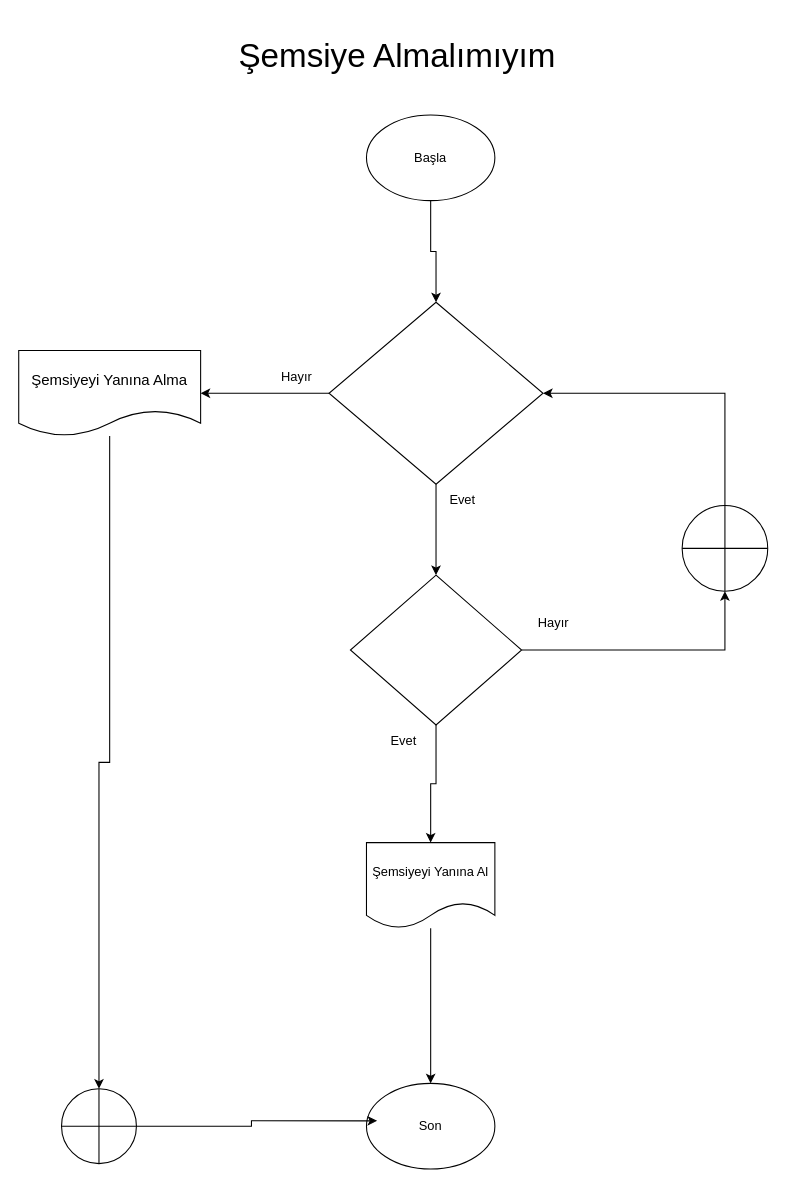
Image size: 786x1188. Some labels were removed from this diagram. Each missing label, with the box of its shape:
Yağmur Yağıyor Mu?: (328, 301, 543, 484)
Şemsiyeyi Buldun Mu: (349, 574, 522, 725)
